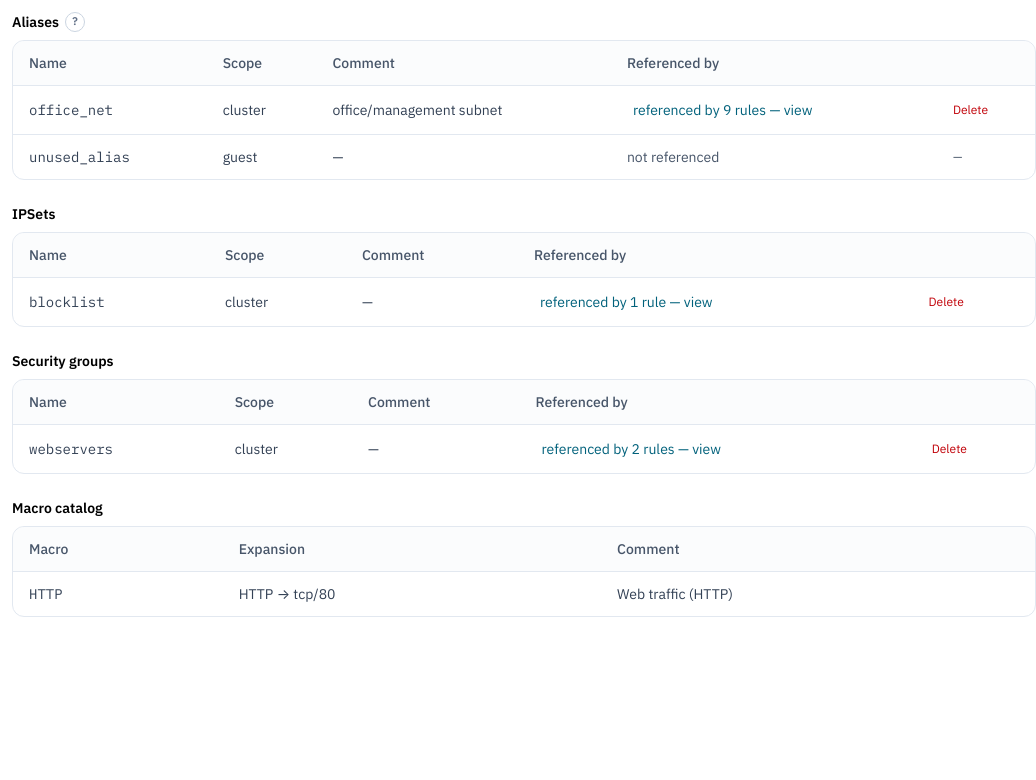
Test: ObjectsPanel › expands the reference list on click (the 'view' deep-link)
The width and height of the screenshot is (1036, 780).
Step 1. Click the button "referenced by 9 rules — view" → (723, 110), box [627, 98, 818, 122]
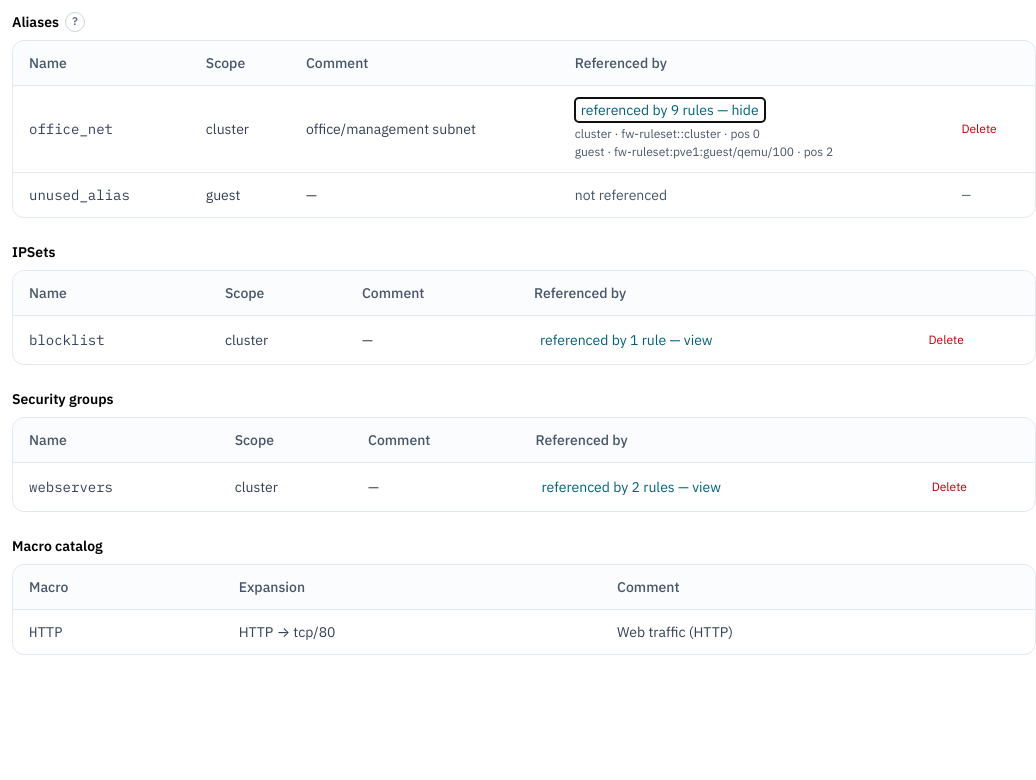
Check: the text "cluster · fw-ruleset::cluster · pos 0" is shown, box [575, 126, 760, 141]
Check: the text "guest · fw-ruleset:pve1:guest/qemu/100 · pos 2" is shown, box [575, 144, 833, 159]
